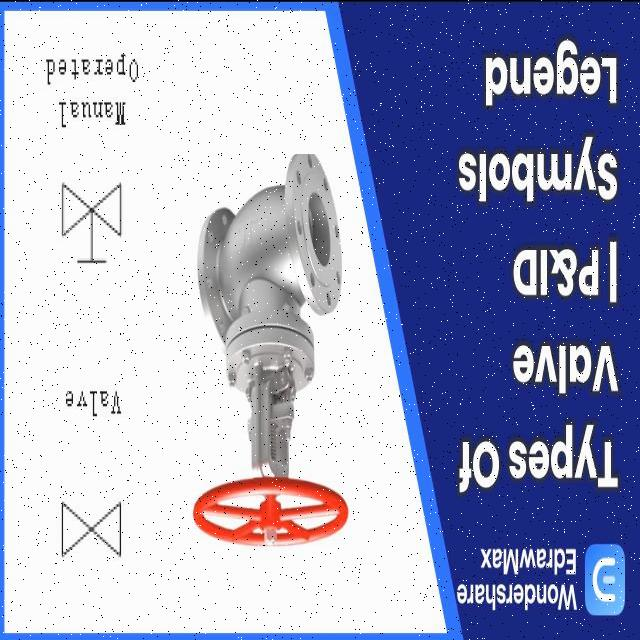Gate Valve: (46, 463, 132, 581)
Hand Operated Gate Valve: (42, 160, 140, 296)
